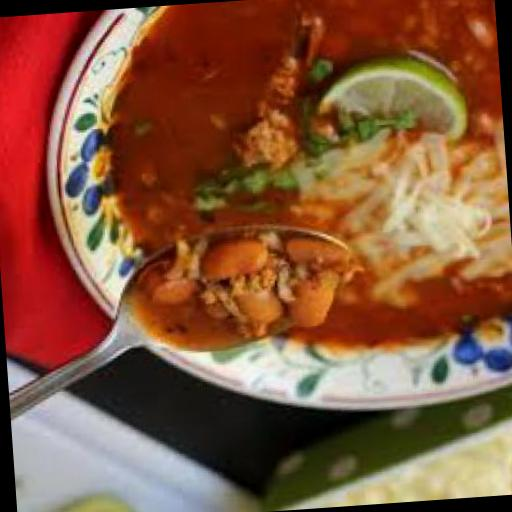biodegradable: (93, 0, 512, 367), (297, 125, 512, 311), (128, 239, 358, 355), (320, 58, 472, 168), (255, 26, 339, 125), (223, 114, 308, 179), (193, 242, 280, 296), (279, 234, 360, 287), (284, 279, 342, 332), (230, 286, 285, 336), (191, 286, 237, 330), (154, 270, 200, 312)
metal: (1, 221, 370, 427)
